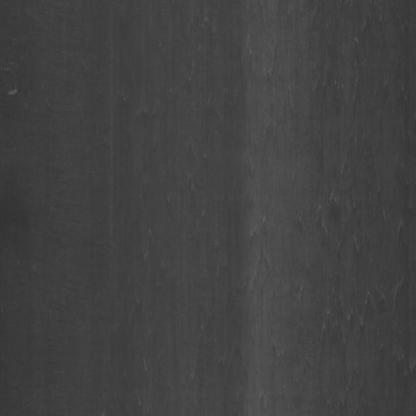silk_spot: (317, 148, 395, 262), (305, 275, 404, 363), (318, 14, 378, 115), (240, 30, 290, 123), (246, 211, 280, 281)
